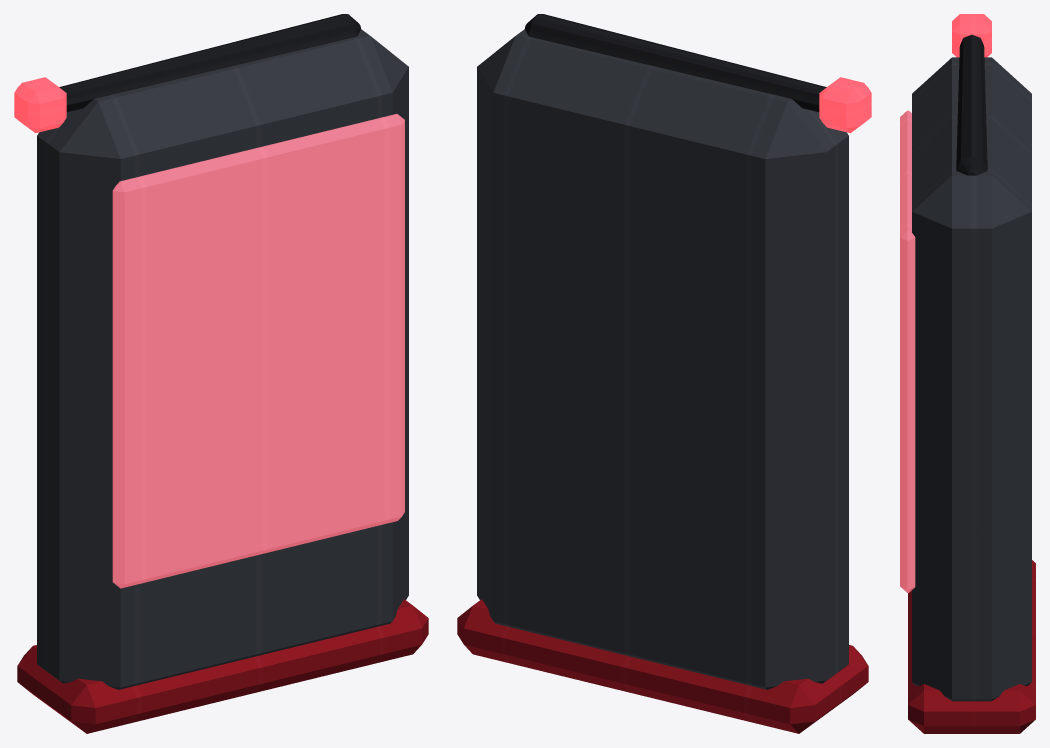
Rendered from gear_scanner.glb.
The picture shows the model from 3 angles, left to right: view 1: azimuth 30°, elevation 25°; view 2: azimuth 150°, elevation 25°; view 3: azimuth 270°, elevation 25°; orthographic projection. The views are drawn at different scales.
Visible parts, largest first — view 1: Scanner_Screen, Scanner_Body, Scanner_Trim, Antenna_Rod, Antenna_Tip; view 2: Scanner_Body, Scanner_Trim, Antenna_Rod, Antenna_Tip; view 3: Scanner_Body, Scanner_Screen, Scanner_Trim, Antenna_Rod, Antenna_Tip.
Part boxes in pixels (bbox=[...]): Scanner_Screen: bbox=[112, 114, 404, 588]; Scanner_Body: bbox=[37, 29, 408, 689]; Scanner_Trim: bbox=[17, 599, 428, 733]; Antenna_Rod: bbox=[59, 14, 360, 111]; Antenna_Tip: bbox=[14, 77, 66, 133]; Scanner_Body: bbox=[477, 29, 848, 689]; Scanner_Trim: bbox=[457, 599, 868, 733]; Antenna_Rod: bbox=[525, 14, 826, 111]; Antenna_Tip: bbox=[819, 77, 871, 133]; Scanner_Body: bbox=[912, 57, 1031, 701]; Scanner_Screen: bbox=[900, 110, 915, 592]; Scanner_Trim: bbox=[908, 560, 1035, 733]; Antenna_Rod: bbox=[956, 34, 987, 175]; Antenna_Tip: bbox=[952, 14, 991, 57].
Size of the model in its own units: 0.098 by 0.156 by 0.034.
Materials: 5 (5 with a texture image).
